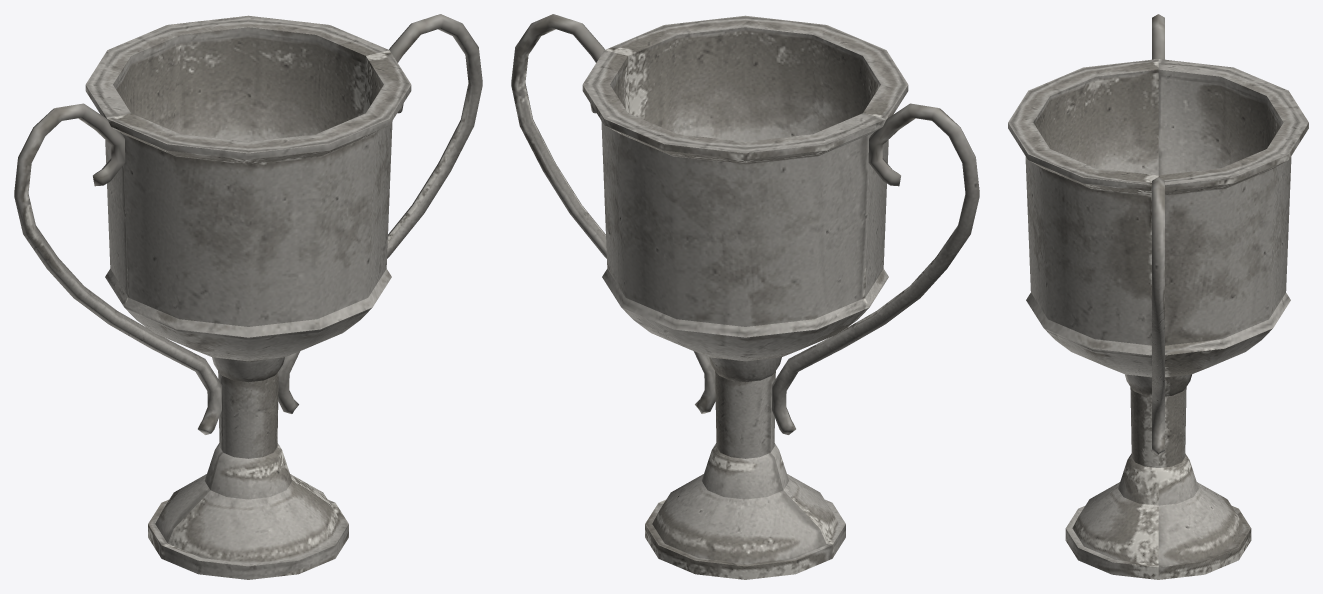
File: copaGenerica1.FBX
3 renders of one model, left to right at view 1: azimuth 30°, elevation 25°; view 2: azimuth 150°, elevation 25°; view 3: azimuth 270°, elevation 25°, orthographic. The views are drawn at different scales.
Visible parts, largest first — view 1: copaGenerica1; view 2: copaGenerica1; view 3: copaGenerica1.
Boxes of the visible parts, left/top/right/bottom form: copaGenerica1: left=14, top=14, right=482, bottom=579; copaGenerica1: left=511, top=14, right=979, bottom=579; copaGenerica1: left=1008, top=14, right=1308, bottom=579.
Size of the model in its own units: 94.66 by 92 by 57.01.
